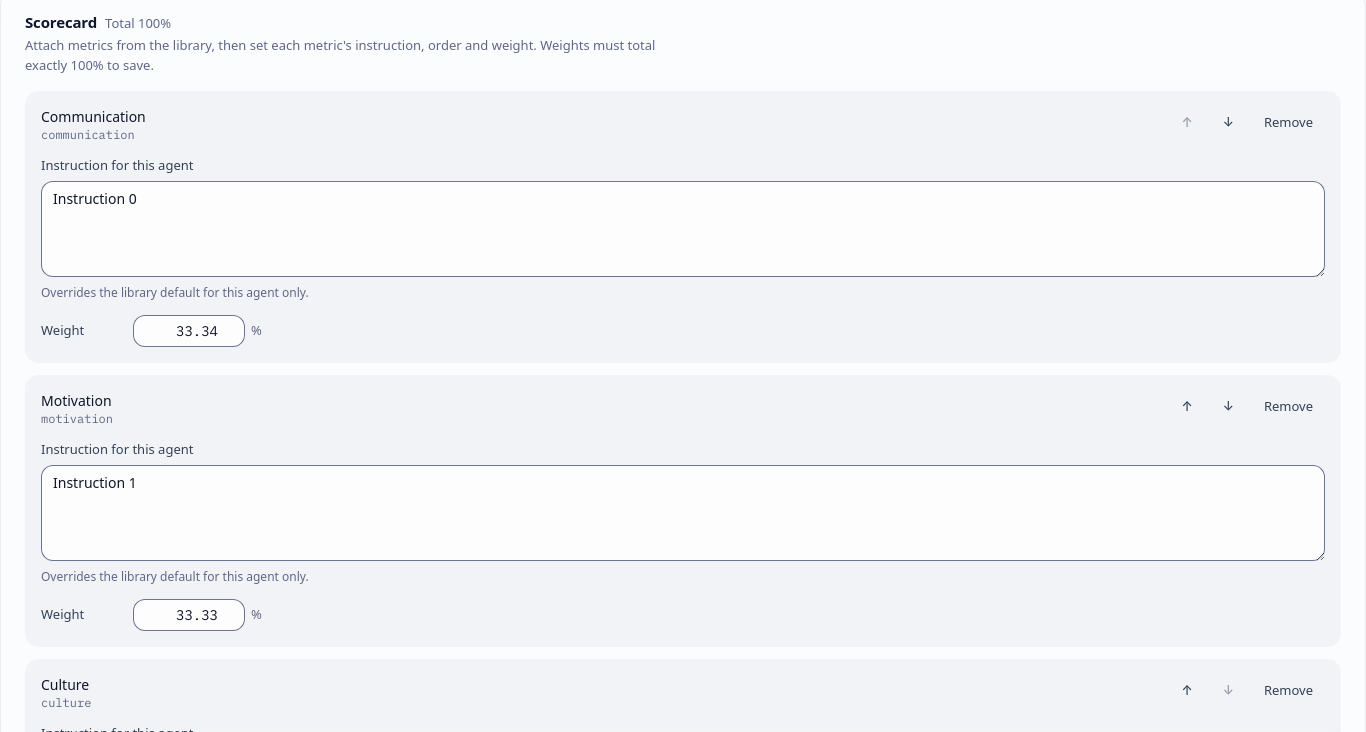
Test: RoleScorecardEditor › REFUSES to save a metric weighted 0, even at a perfect 100% total
Expected: the text "Communication" is shown, [41,107,146,127]
Replace the text in the number field named "Weight for Communication" with "66.66" at (189, 331), box [133,315,245,347]
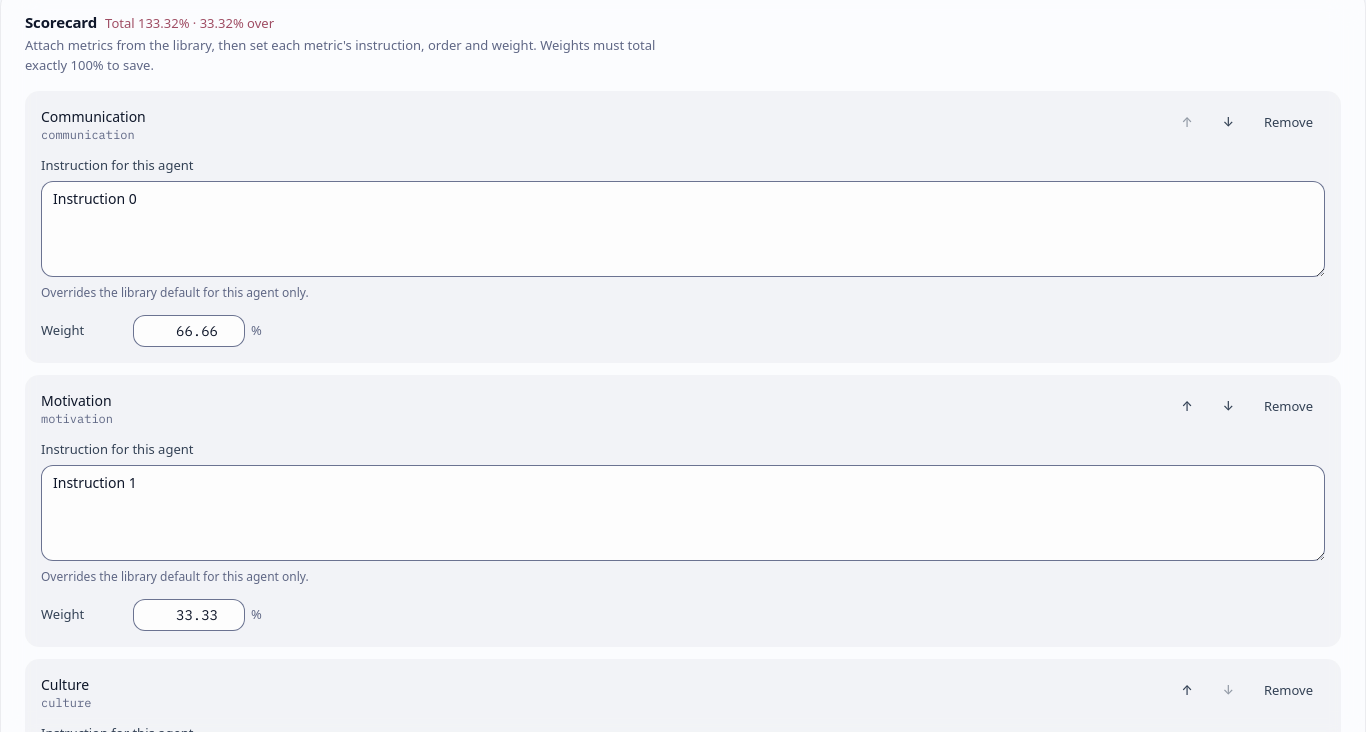
Replace the text in the number field named "Weight for Motivation" with "33.34" at (189, 615), box [133,599,245,631]
(page scrolled)
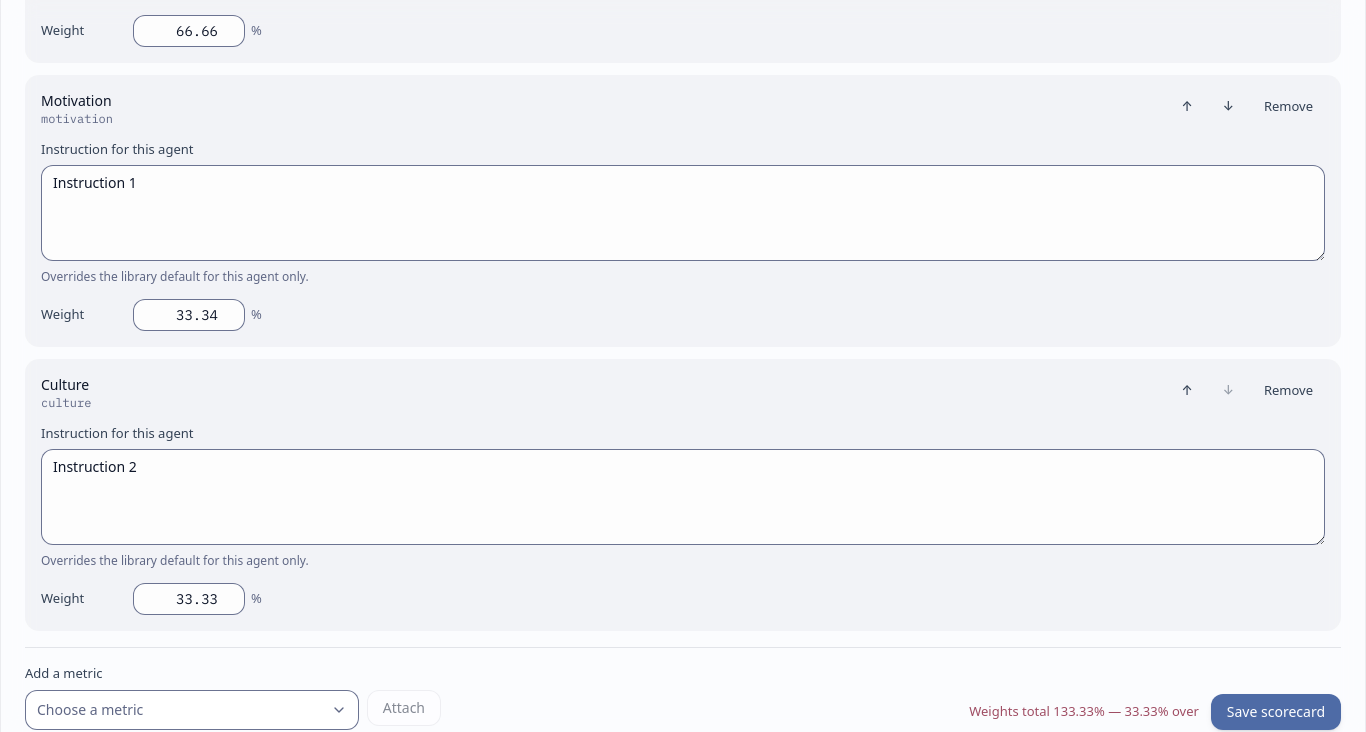
Replace the text in the number field named "Weight for Culture" with "0" at (189, 599), box [133,583,245,615]
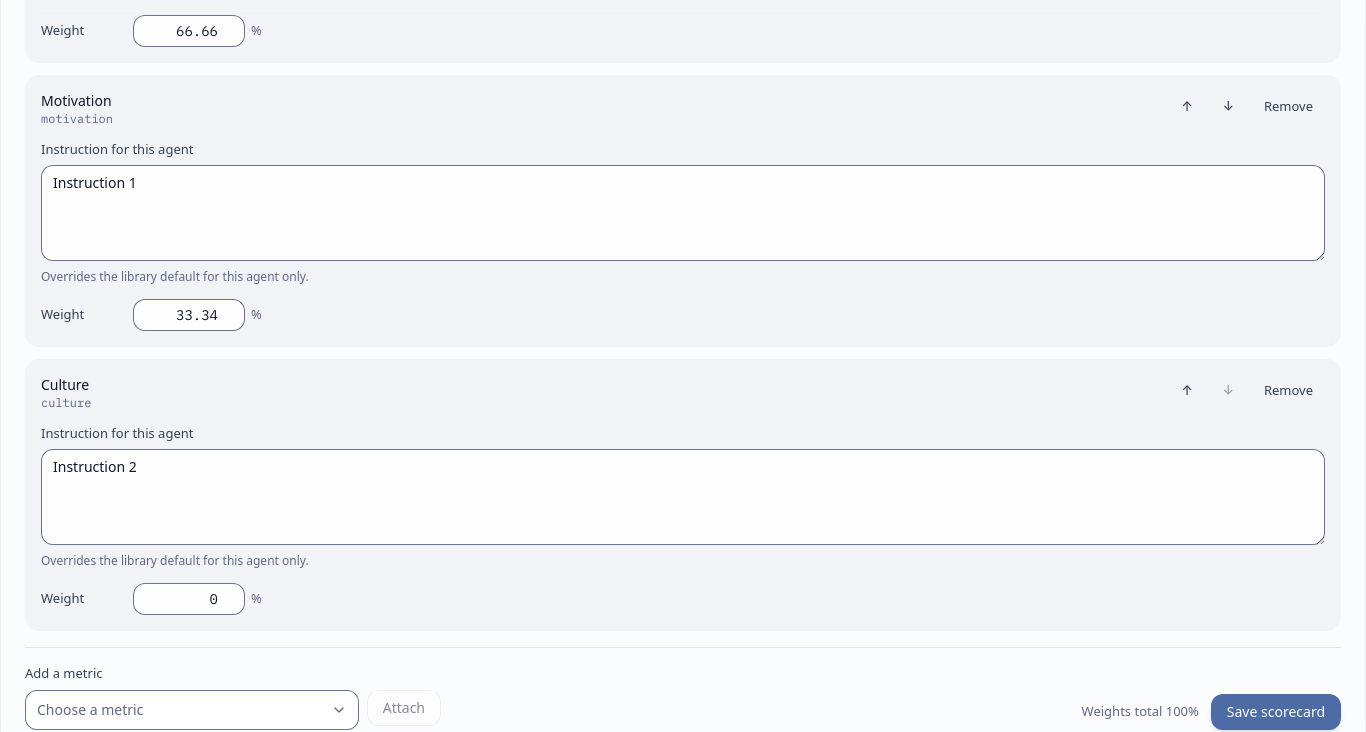
Click the button "Save scorecard" at (1276, 712), box [1211,694,1341,730]
(page scrolled)
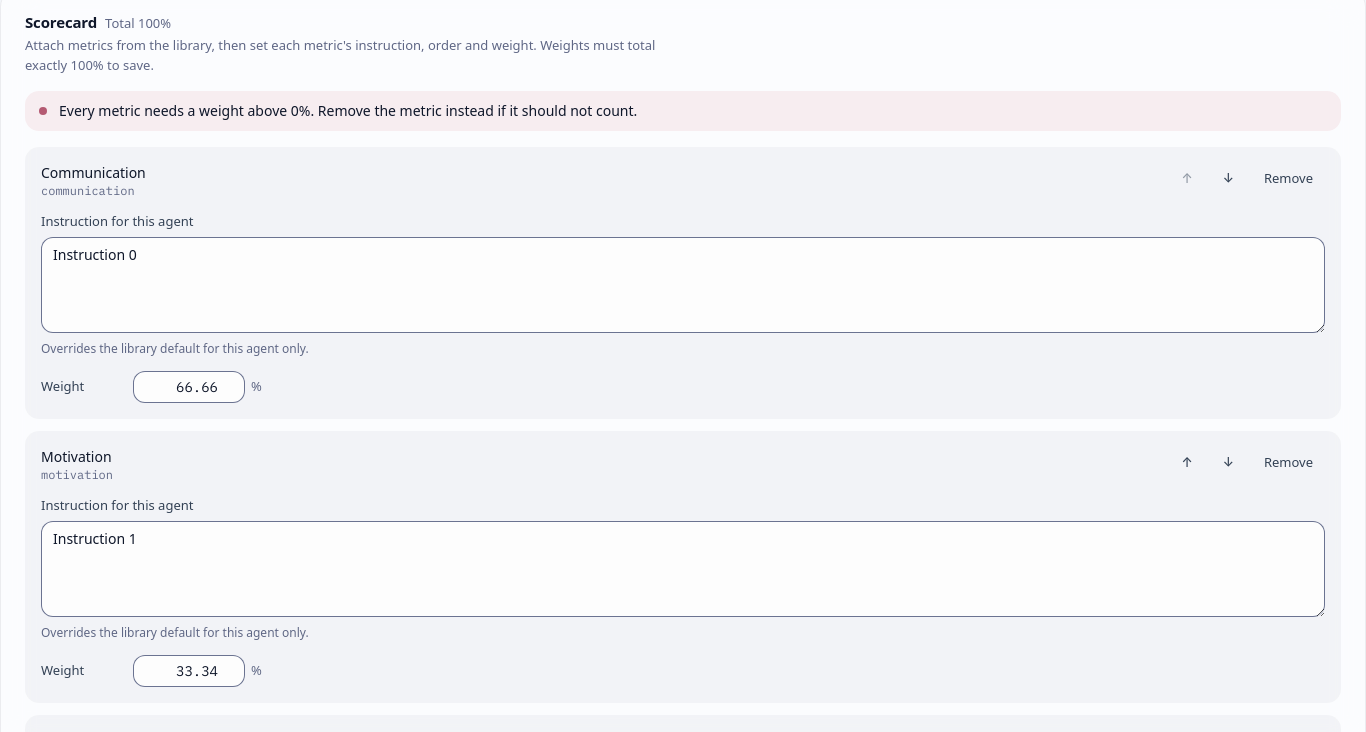
Result: the text "Every metric needs a weight above 0%" is shown at [59,101,637,120]
